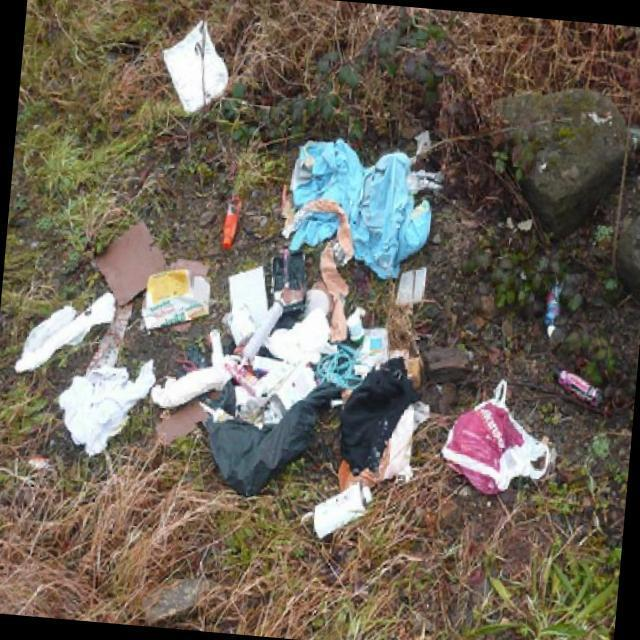garbage: (31, 220, 640, 514), (121, 14, 475, 349), (61, 522, 295, 638), (260, 452, 438, 552), (615, 95, 640, 165)
